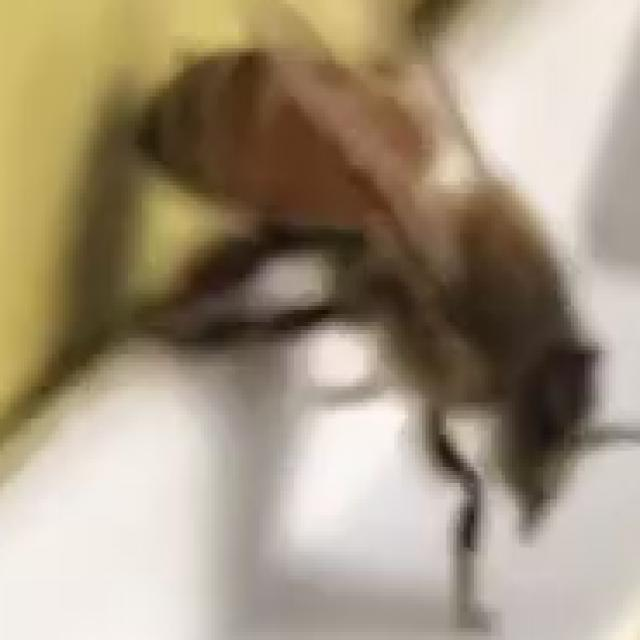honeybee: (113, 0, 608, 617)
